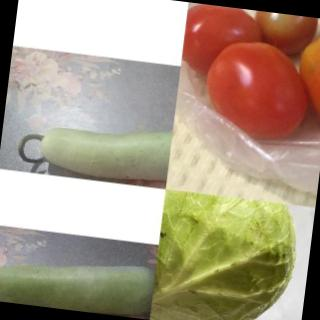Tomat: (196, 31, 320, 150)
